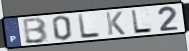0: (51, 15, 74, 42)
2: (156, 5, 182, 33)
B: (23, 16, 50, 45)
K: (104, 11, 127, 36)
L: (76, 13, 102, 40), (130, 9, 155, 35)
